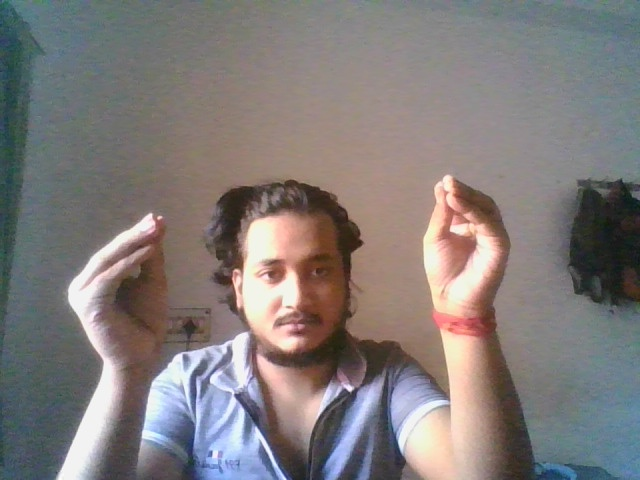Mouth: (66, 213, 172, 371), (421, 174, 511, 310)
